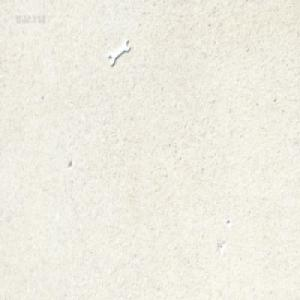Wrench: (108, 36, 130, 64)
